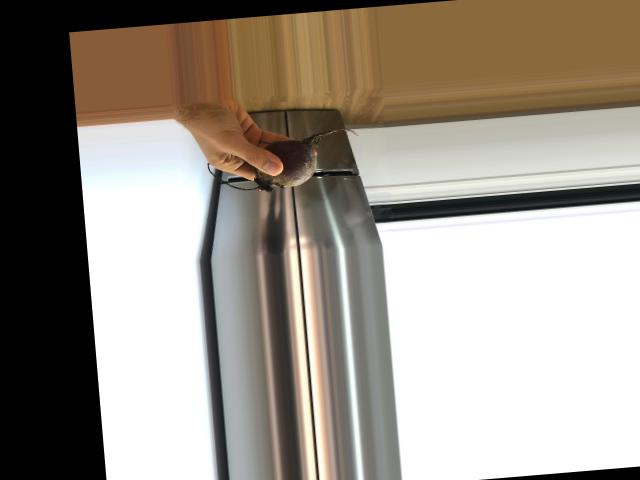beet: (205, 126, 363, 196)
